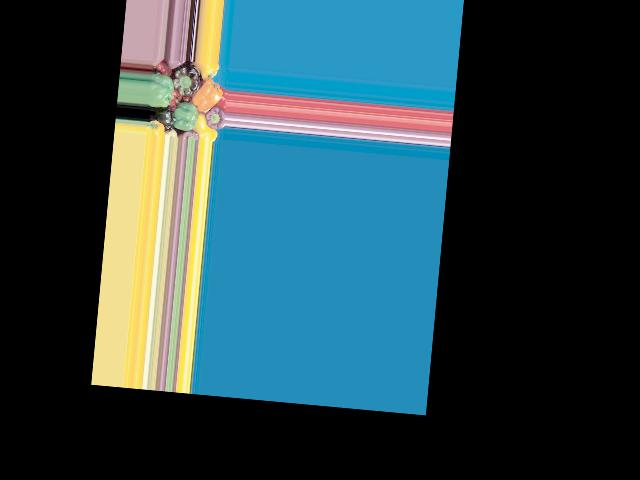bell_pepper: (147, 72, 172, 107)
